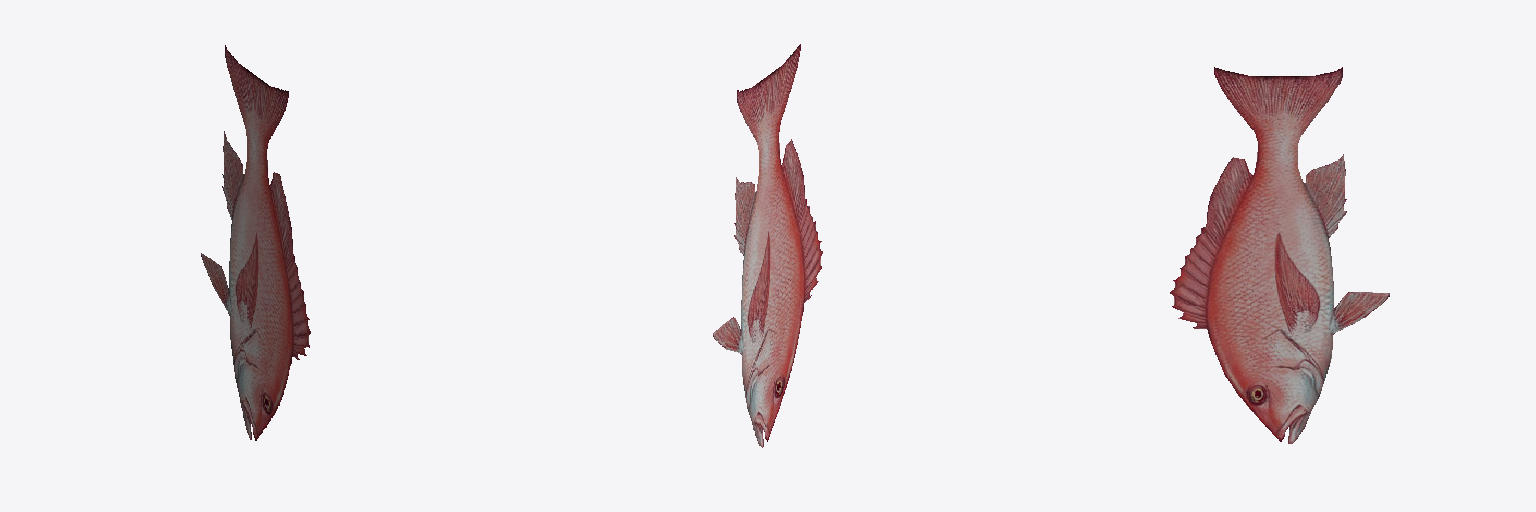
The picture shows the model from 3 angles: view 1: azimuth 30°, elevation 25°; view 2: azimuth 150°, elevation 25°; view 3: azimuth 270°, elevation 25°; orthographic projection.
Bounding box in the file's own units: 0 × 2 × 1.06.
1 materials, 1 textured.